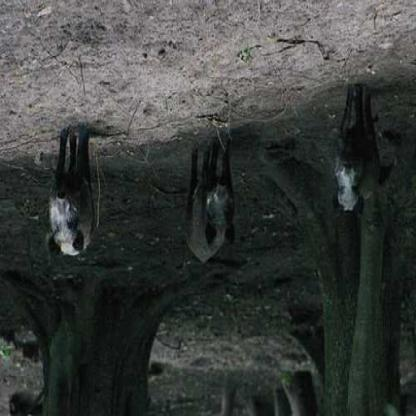boar: (170, 110, 272, 269), (36, 107, 120, 274), (322, 65, 413, 219)
